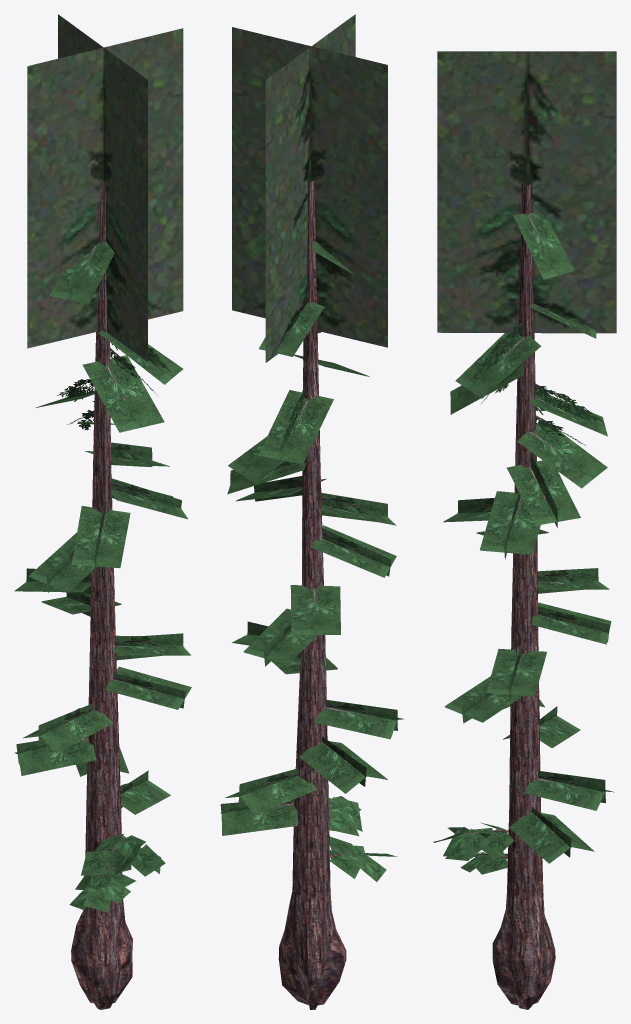
File: frst_conf_redwood_lg_l0.fbx
The picture shows the model from 3 angles, left to right: view 1: azimuth 30°, elevation 25°; view 2: azimuth 150°, elevation 25°; view 3: azimuth 270°, elevation 25°; orthographic projection.
Parts seen in each view (by area): view 1: mesh_node; view 2: mesh_node; view 3: mesh_node.
Part boxes in pixels (x1,y1,x2,y2): mesh_node: (14,14,191,1009); mesh_node: (220,14,404,1009); mesh_node: (433,51,616,1009).
Size of the model in its own units: 19.41 by 112 by 19.37.
